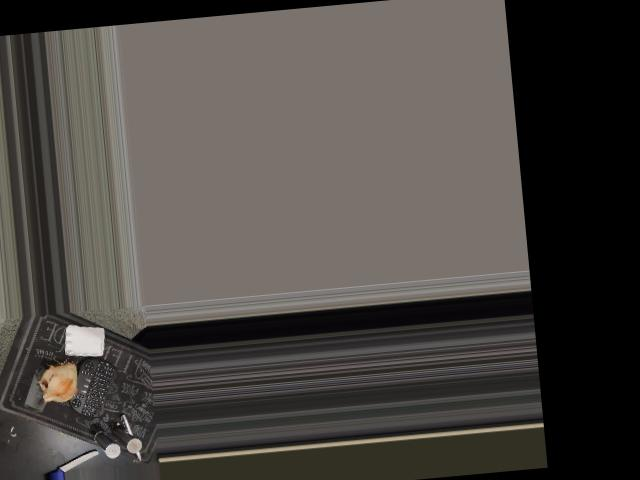onion: (38, 359, 83, 405)
